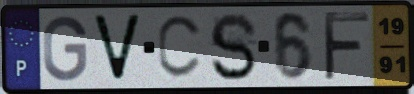6: (272, 10, 317, 83)
C: (155, 13, 206, 82)
F: (321, 9, 373, 83)
G: (41, 14, 90, 84)
S: (207, 11, 260, 84)
V: (89, 12, 145, 84)
